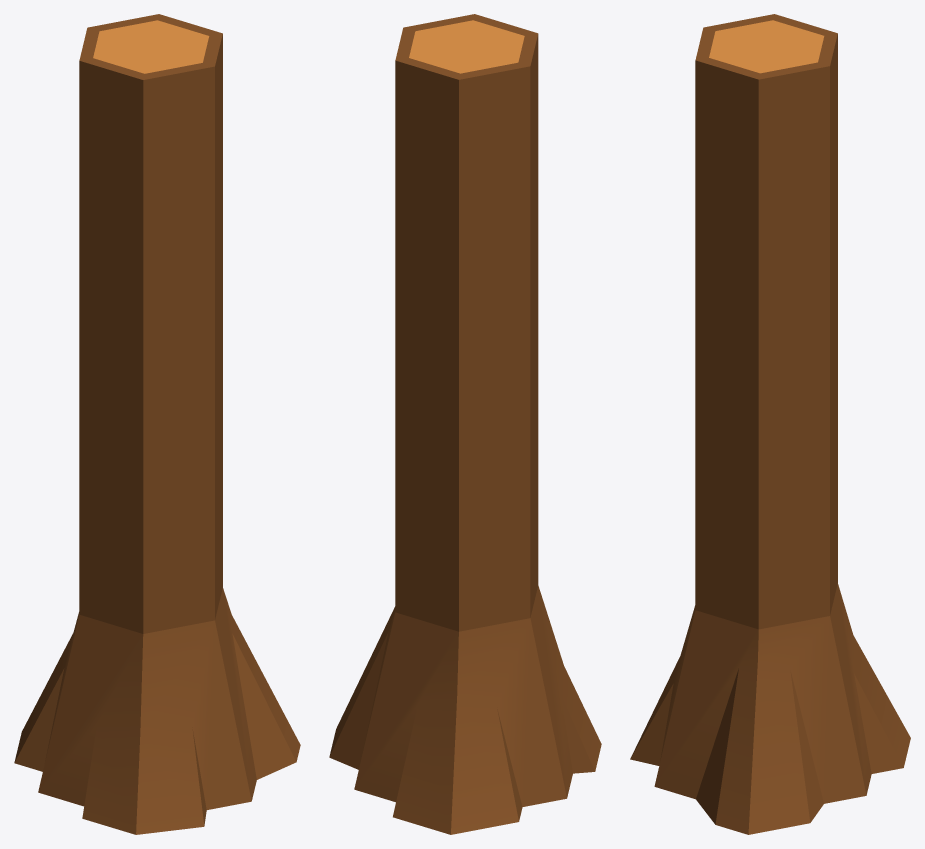
File: 쓰러지는 나무.fbx
3 renders of one model, left to right at view 1: azimuth 30°, elevation 25°; view 2: azimuth 150°, elevation 25°; view 3: azimuth 270°, elevation 25°, orthographic.
Parts seen in each view (by area): view 1: Cylinder.001, Cylinder.012; view 2: Cylinder.001, Cylinder.012; view 3: Cylinder.001, Cylinder.012.
Boxes of the visible parts, box(x1,y1,x2,y2) form: Cylinder.001: box(79, 14, 222, 633); Cylinder.012: box(14, 588, 300, 834); Cylinder.001: box(395, 14, 538, 631); Cylinder.012: box(329, 586, 601, 834); Cylinder.001: box(695, 14, 837, 629); Cylinder.012: box(630, 583, 910, 834).
Size of the model in its own units: 934 by 2620 by 926.
